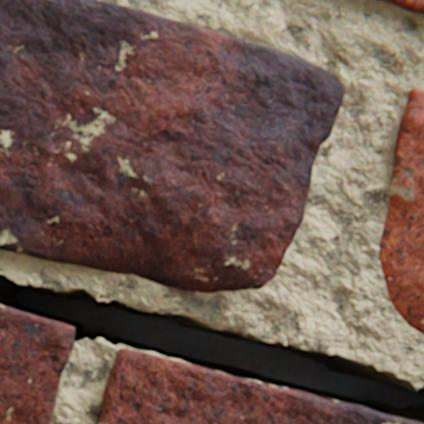brick: (0, 0, 343, 292), (98, 349, 423, 423), (378, 90, 423, 334), (0, 305, 74, 423), (374, 0, 423, 14)
crack: (0, 274, 423, 422)
